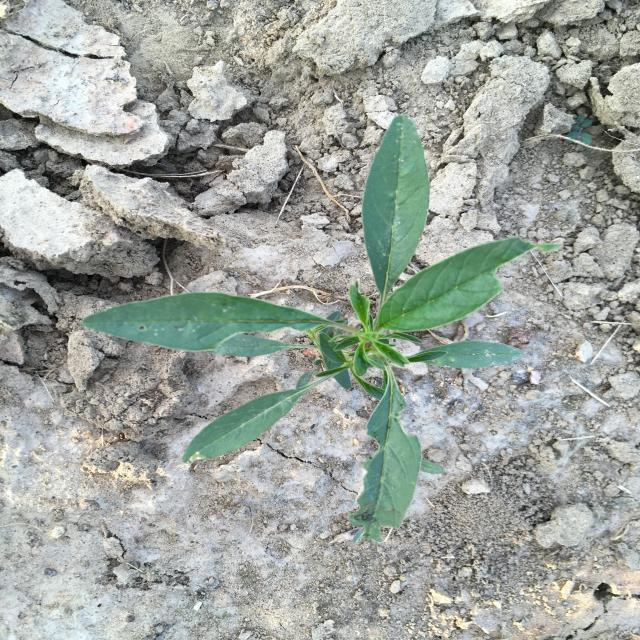Waterhemp: (83, 114, 561, 546)
